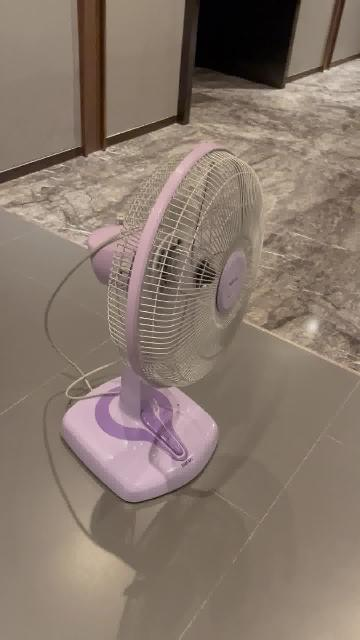Fan: (61, 140, 264, 504)
